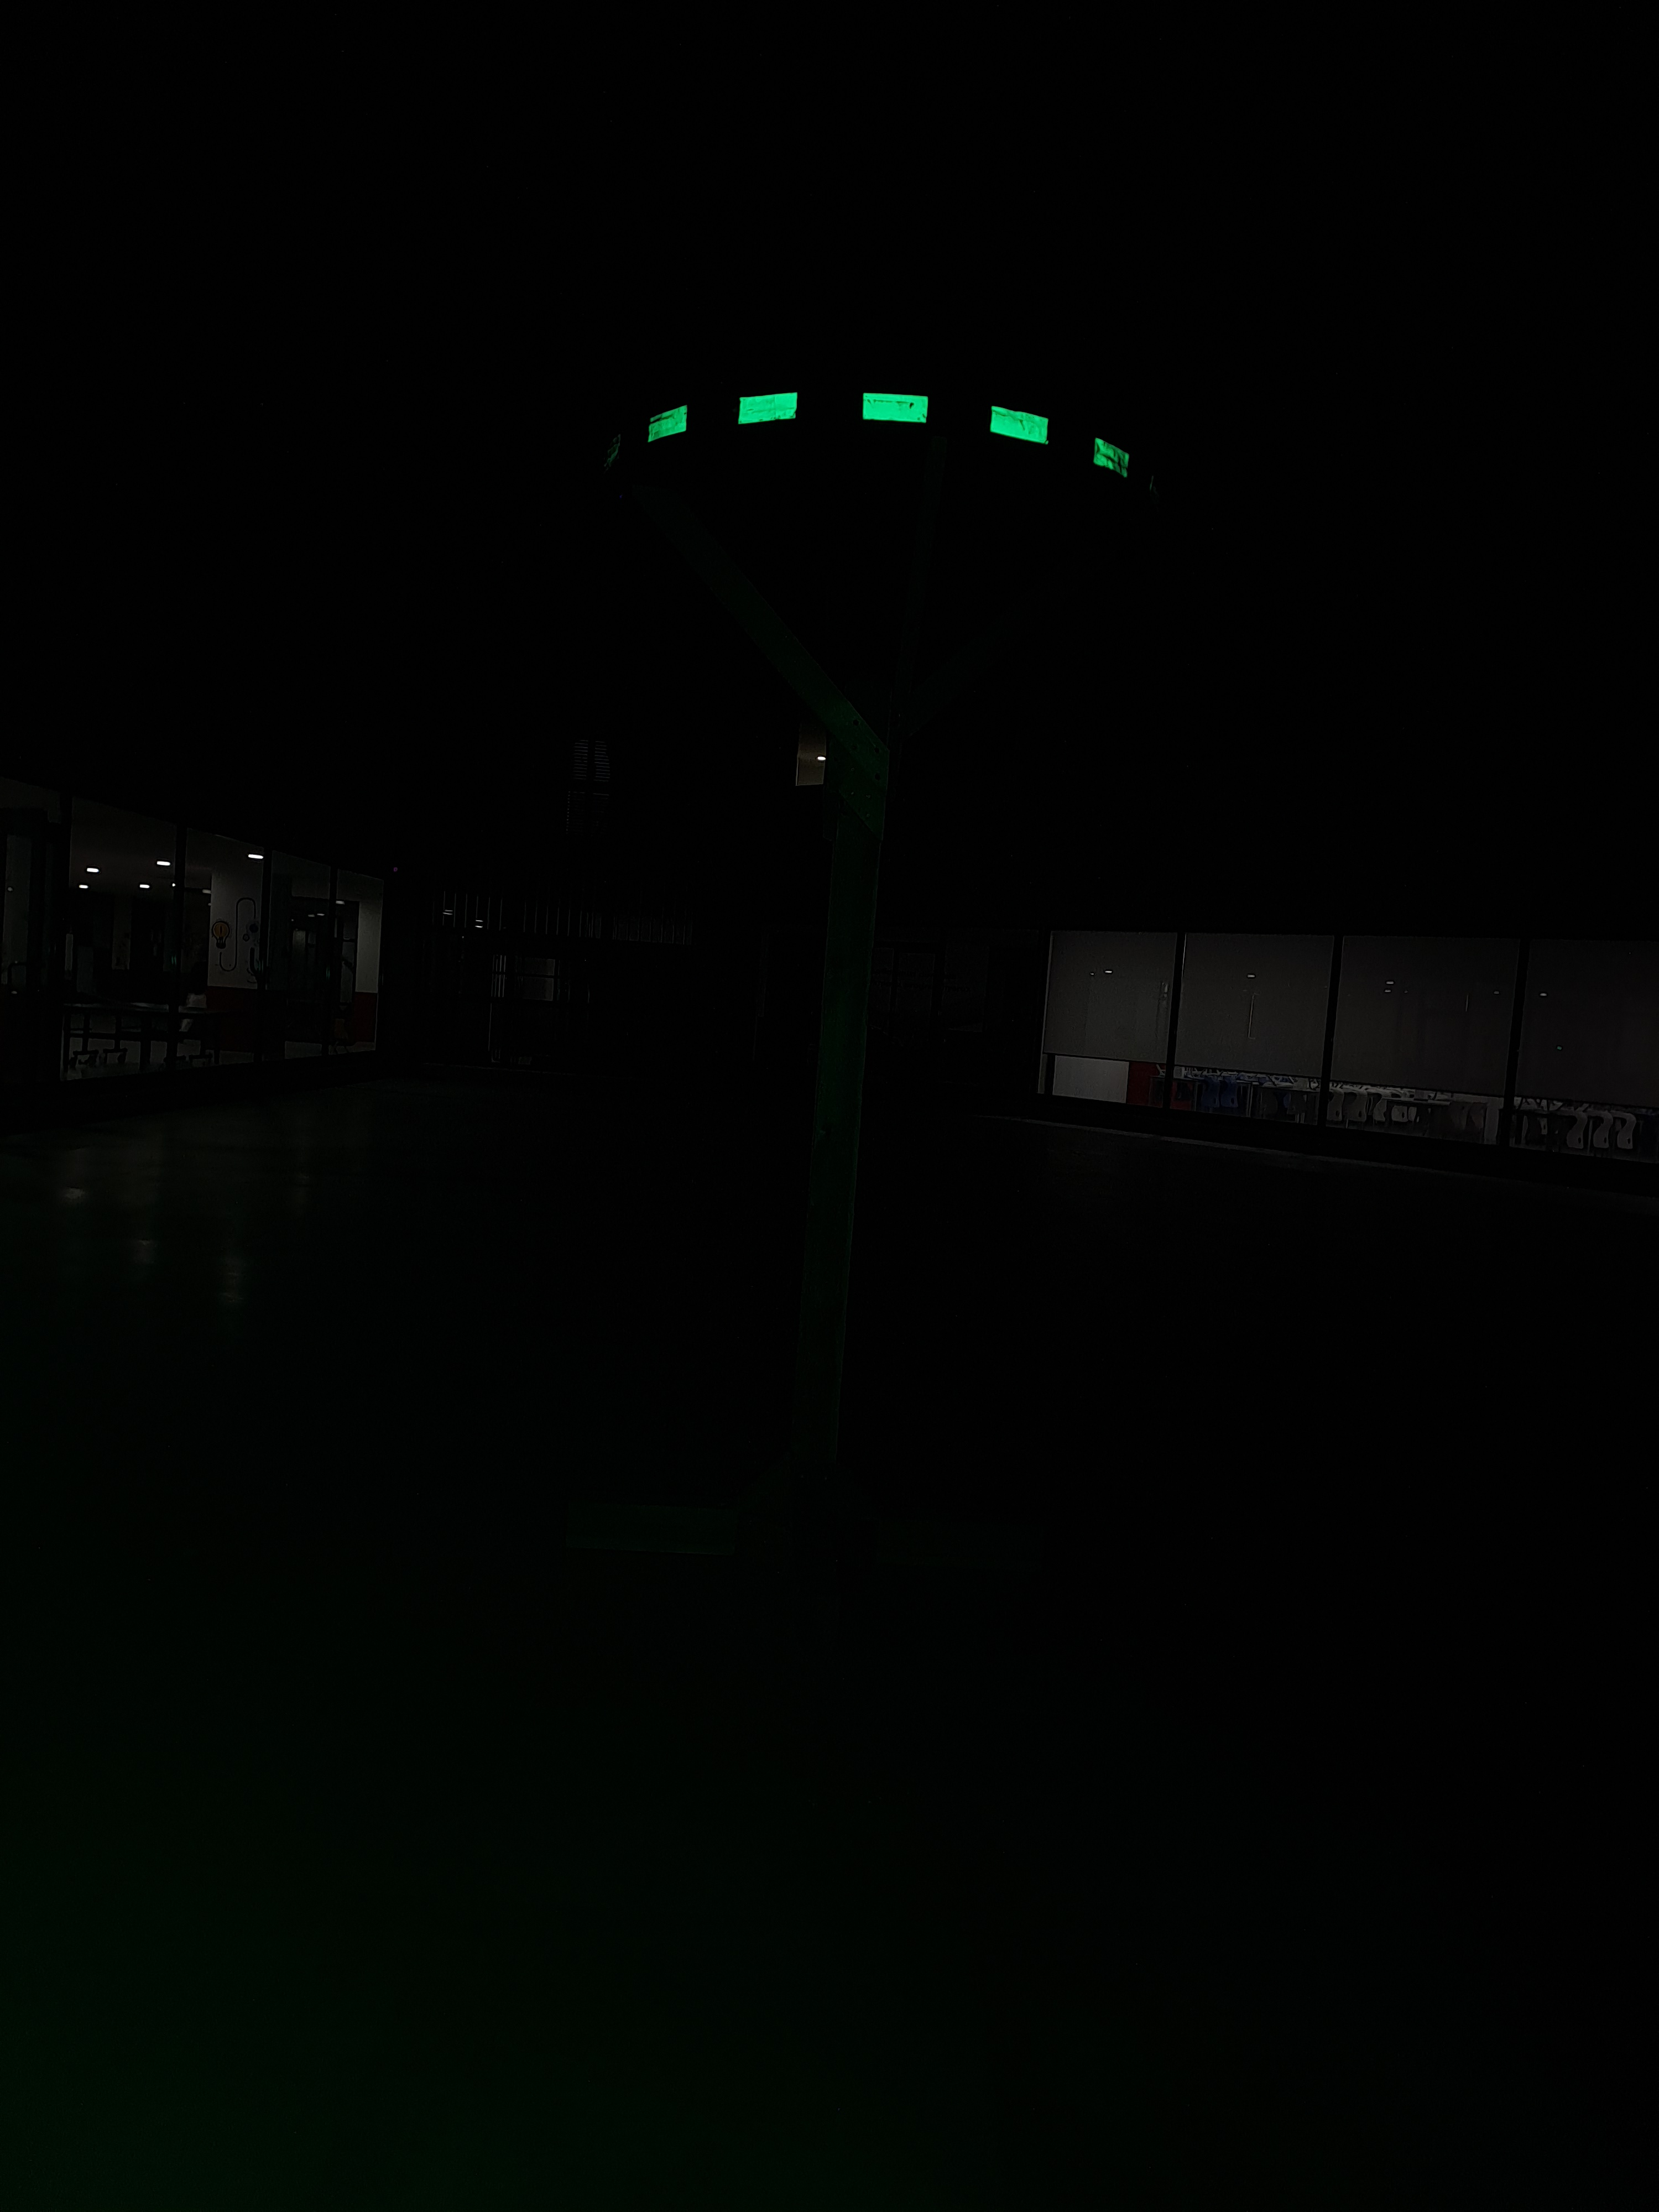hoop: (640, 383, 1133, 493)
